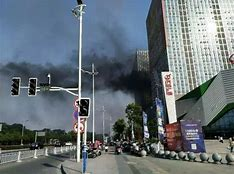smoke: (7, 53, 148, 97)
